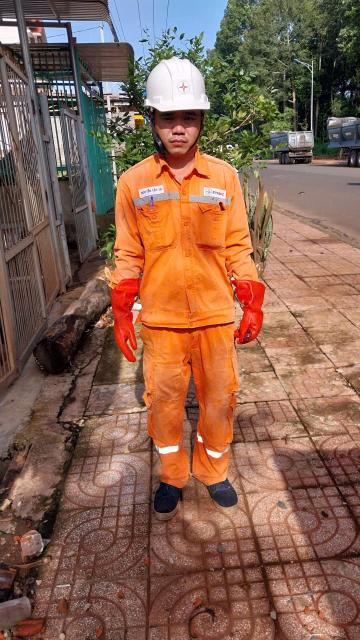gloves: (194, 276, 276, 345), (96, 273, 148, 369)
helmet: (147, 44, 212, 119)
shoes: (195, 467, 256, 523), (145, 471, 189, 527)
